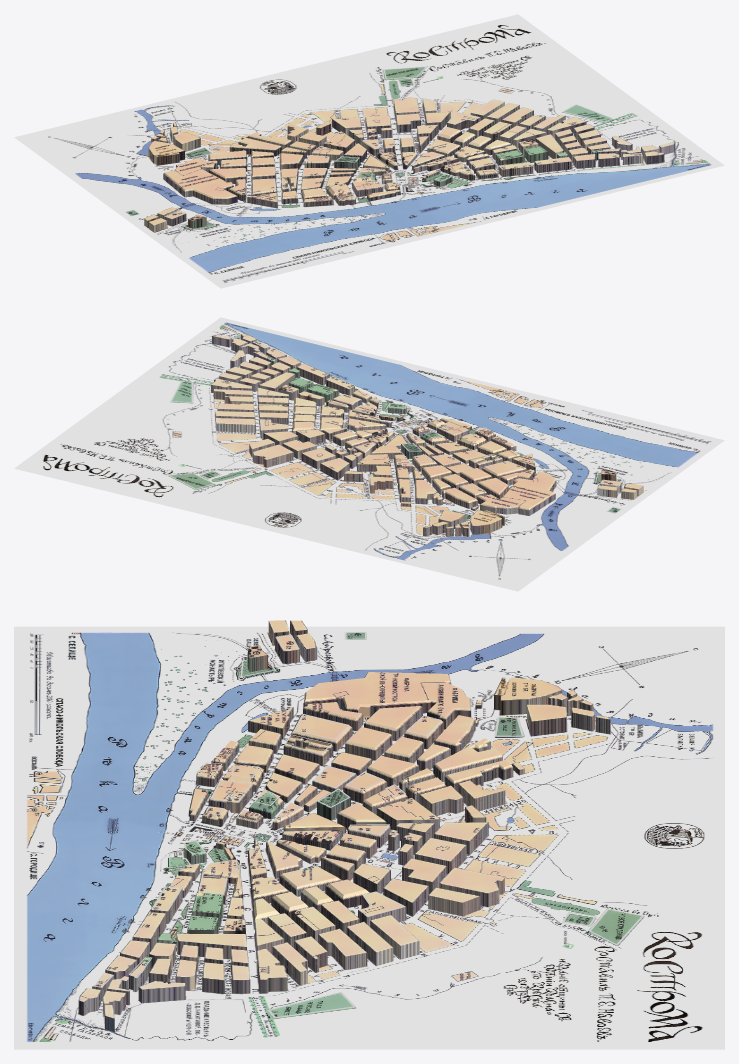
Rendered from pravoslavie.dae.
3 renders of one model, top to bottom at view 1: azimuth 30°, elevation 25°; view 2: azimuth 150°, elevation 25°; view 3: azimuth 270°, elevation 25°, orthographic. The views are drawn at different scales.
Parts seen in each view (by area): view 1: Plane; view 2: Plane; view 3: Plane.
Part boxes in pixels (x1,y1,x2,y2): Plane: (14, 14, 724, 288); Plane: (14, 317, 724, 591); Plane: (14, 620, 724, 1049).
Bounding box in the file's own units: 2.07 × 1.47 × 0.0331.
Materials: 114 (1 with a texture image).
